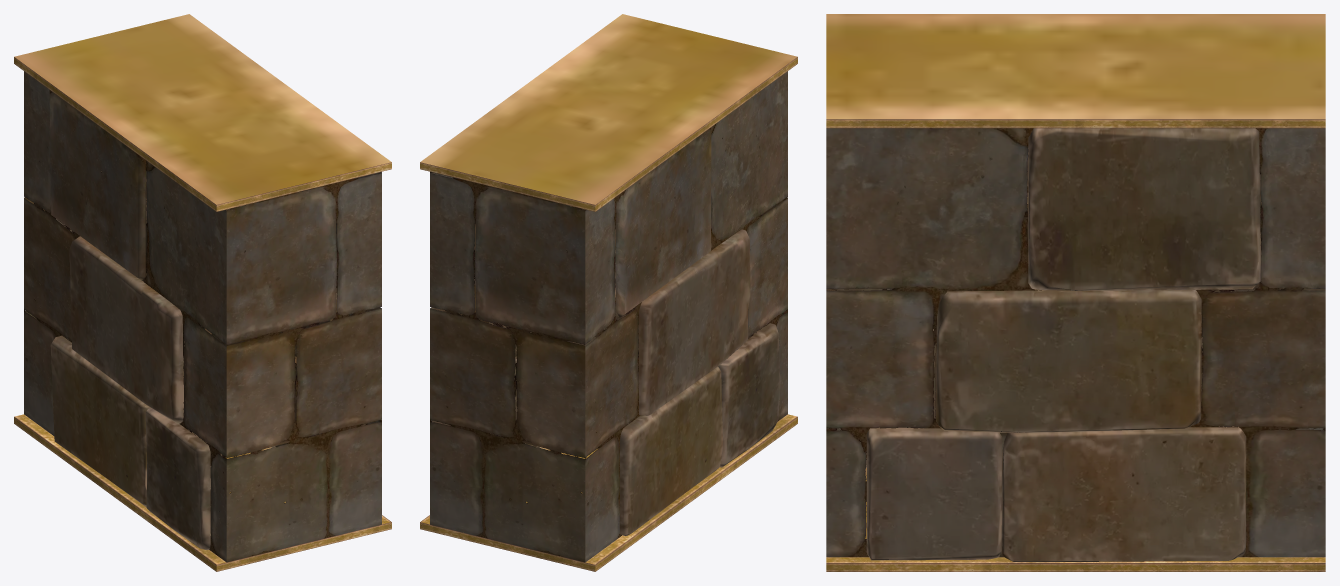
The picture shows the model from 3 angles, left to right: view 1: azimuth 30°, elevation 25°; view 2: azimuth 150°, elevation 25°; view 3: azimuth 270°, elevation 25°; orthographic projection. The views are drawn at different scales.
Parts seen in each view (by area): view 1: SM_DK_4m_Wall_01_LOD0; view 2: SM_DK_4m_Wall_01_LOD0; view 3: SM_DK_4m_Wall_01_LOD0.
Boxes of the visible parts, x1=… form: SM_DK_4m_Wall_01_LOD0: x1=14, y1=14, x2=391, y2=571; SM_DK_4m_Wall_01_LOD0: x1=420, y1=14, x2=797, y2=571; SM_DK_4m_Wall_01_LOD0: x1=826, y1=14, x2=1325, y2=571.
Bounding box in the file's own units: 2.03 × 4 × 4.
3 materials, 3 textured.
